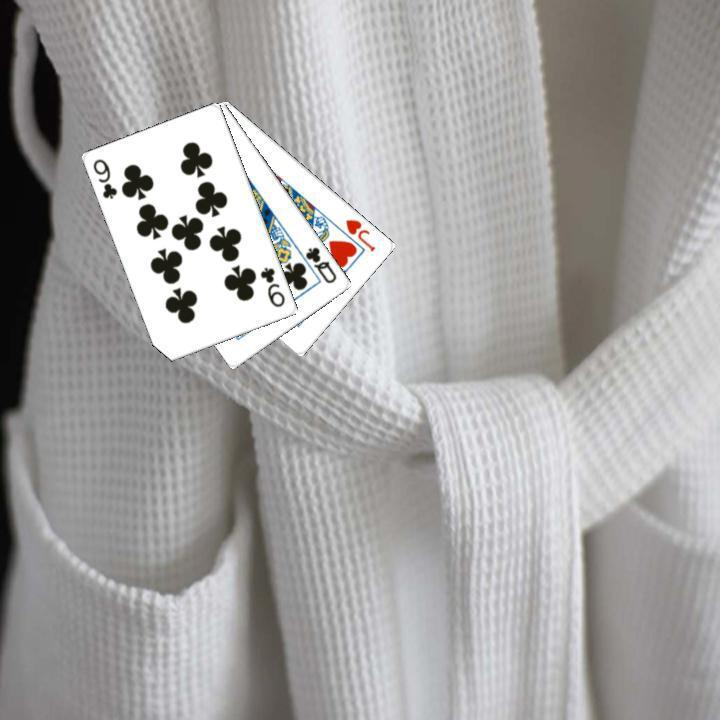9: (256, 263, 287, 309), (89, 155, 120, 201)
J: (342, 215, 378, 254)
Q: (301, 243, 339, 286)
